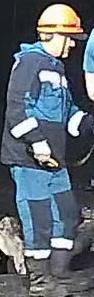helmet: (35, 3, 84, 34)
vest: (0, 47, 77, 168)
